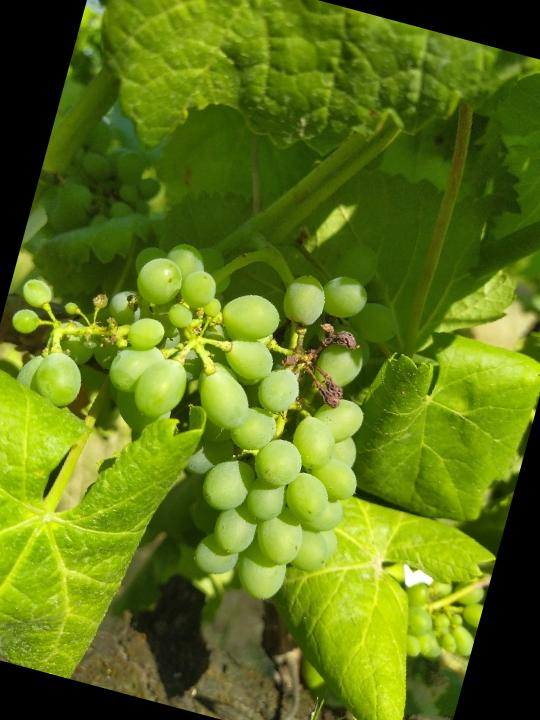grape: (0, 161, 427, 622), (387, 559, 489, 673)
